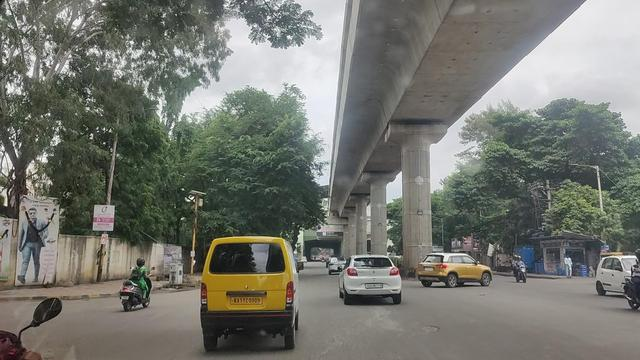LMV: (200, 237, 299, 351), (339, 253, 402, 303), (119, 258, 154, 315)
RoadDamages: (314, 323, 351, 360), (361, 306, 406, 336), (420, 317, 440, 335)
